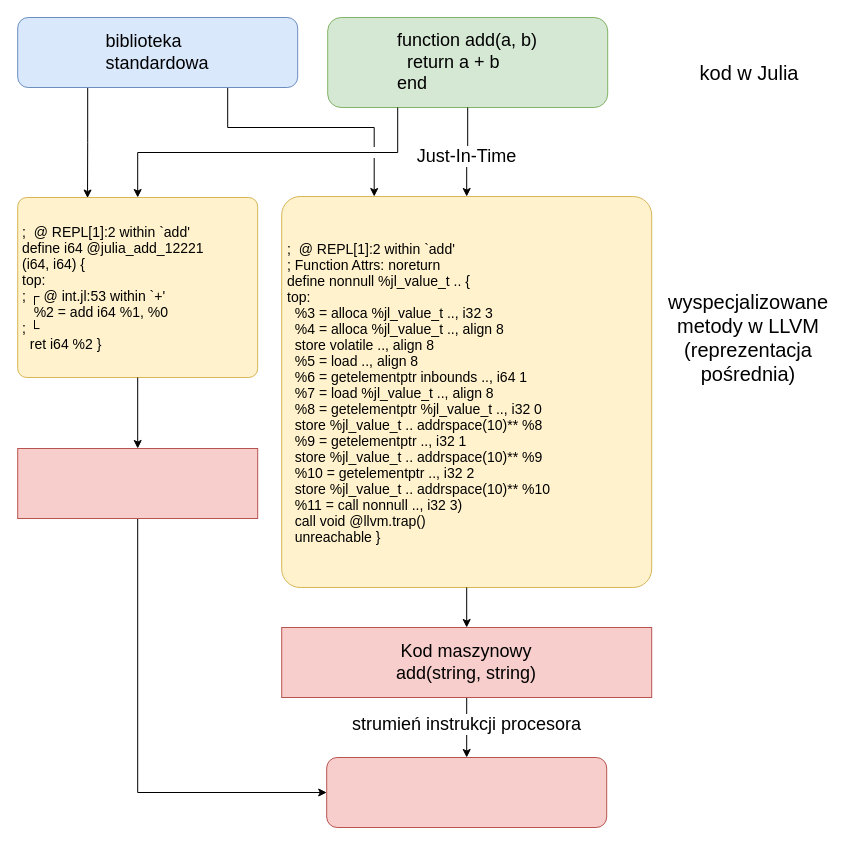
Image size: 851x845. Some labels were removed from this diagram. The shapes that lost their labels are listed below. From the top down, each one's centre as x and y in pixels, then its label:
At (x=137, y=483): "Kod maszynowy add(int, int)".
At (x=466, y=792): "Procesor".
